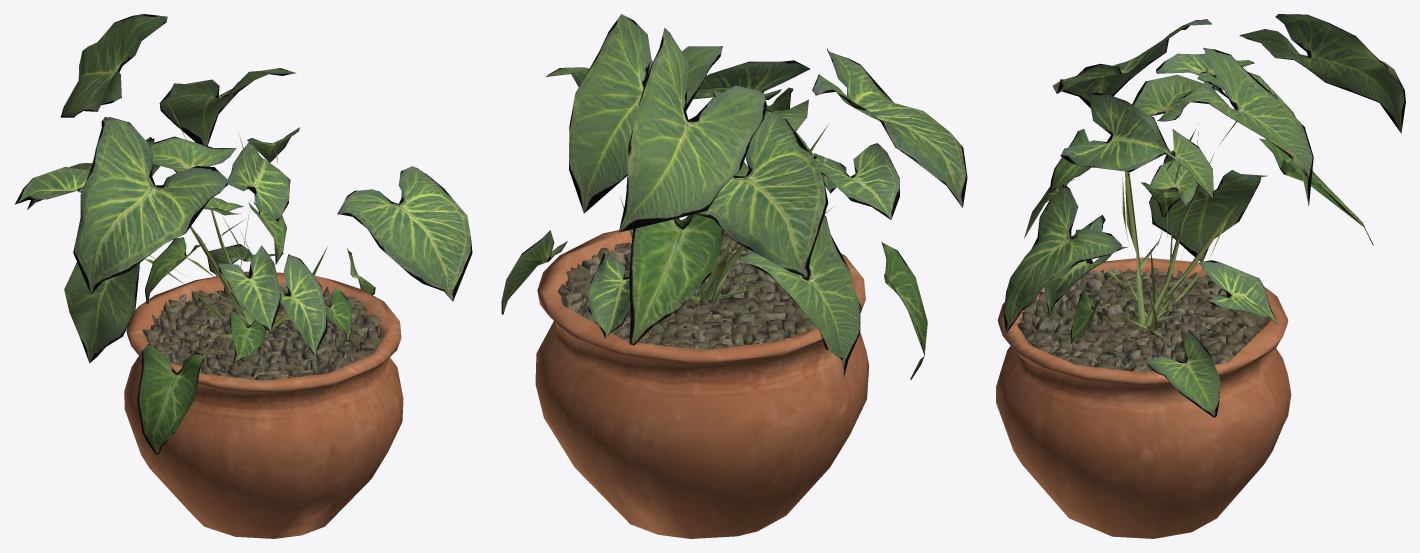
Rendered from potted_plant_02.glb.
3 views of the same model, side by side, from view 1: azimuth 30°, elevation 25°; view 2: azimuth 150°, elevation 25°; view 3: azimuth 270°, elevation 25° (orthographic). The views are drawn at different scales.
Parts seen in each view (by area): view 1: potted_plant_02_leaves, potted_plant_02_pot; view 2: potted_plant_02_leaves, potted_plant_02_pot; view 3: potted_plant_02_pot, potted_plant_02_leaves.
Part boxes in pixels (x1,y1,x2,y2): potted_plant_02_leaves: (15,14,472,454); potted_plant_02_pot: (124,271,403,538); potted_plant_02_leaves: (501,14,967,380); potted_plant_02_pot: (535,229,869,538); potted_plant_02_pot: (996,257,1291,538); potted_plant_02_leaves: (1003,14,1405,417).
Size of the model in its own units: 0.7009 by 0.8395 by 0.6554.
Materials: 2 (2 with a texture image).
